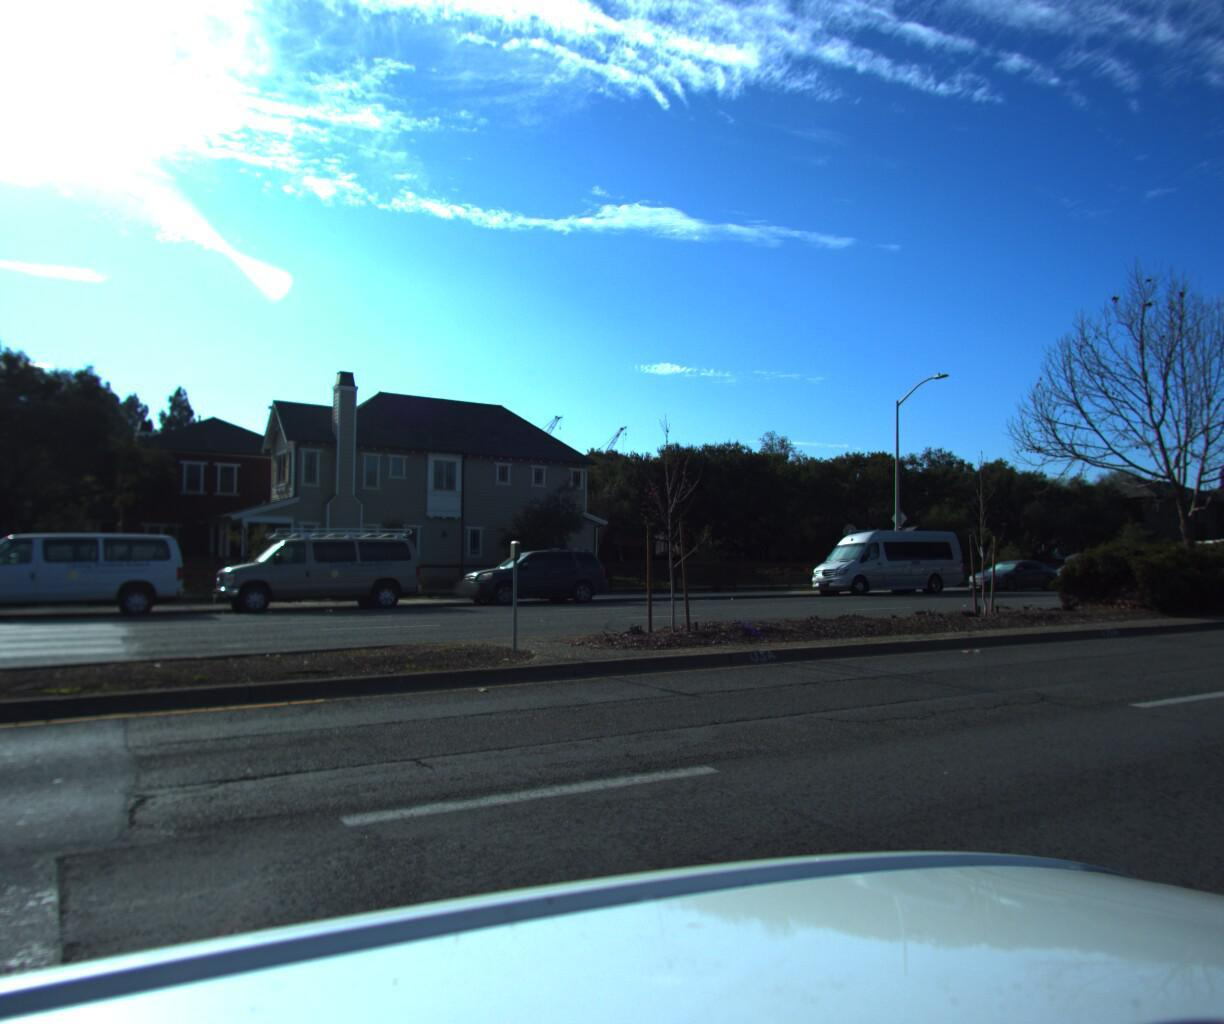car: (201, 522, 427, 620), (795, 517, 971, 596), (447, 542, 614, 609), (956, 553, 1061, 590)
other_vehicle: (1174, 524, 1224, 582)
